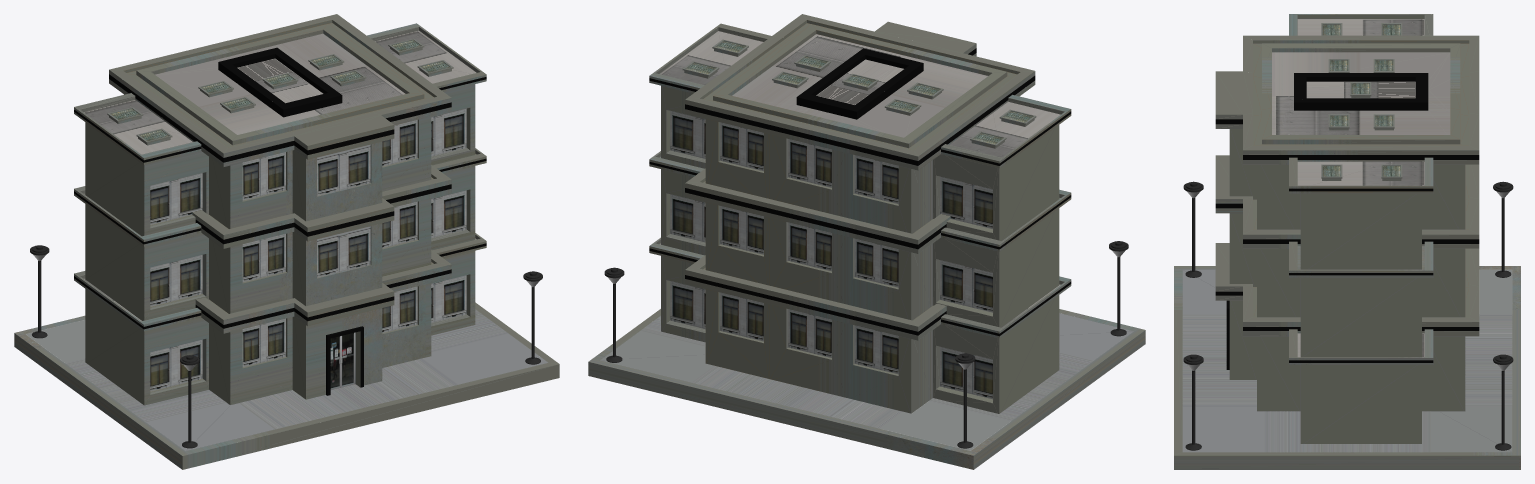
File: building.glb
3 renders of one model, left to right at view 1: azimuth 30°, elevation 25°; view 2: azimuth 150°, elevation 25°; view 3: azimuth 270°, elevation 25°, orthographic. The views are drawn at different scales.
Visible parts, largest first — view 1: structure, floor, lamp20, lamp23, lamp21; view 2: structure, floor, lamp23, lamp20; view 3: structure, floor, lamp21, lamp22, lamp23, lamp20.
Part boxes in pixels (bbox=[...]): structure: bbox=[74, 14, 486, 405]; floor: bbox=[14, 302, 559, 469]; lamp20: bbox=[180, 355, 199, 448]; lamp23: bbox=[30, 245, 49, 338]; lamp21: bbox=[523, 271, 542, 364]; structure: bbox=[649, 14, 1071, 413]; floor: bbox=[588, 309, 1145, 469]; lamp23: bbox=[955, 353, 975, 448]; lamp20: bbox=[1109, 241, 1128, 336]; structure: bbox=[1215, 14, 1479, 443]; floor: bbox=[1174, 266, 1520, 469]; lamp21: bbox=[1183, 354, 1203, 450]; lamp22: bbox=[1493, 354, 1513, 450]; lamp23: bbox=[1493, 181, 1513, 277]; lamp20: bbox=[1183, 181, 1203, 277].
Size of the model in its own units: 11.99 by 8.47 by 9.27.
9 materials, 6 textured.
